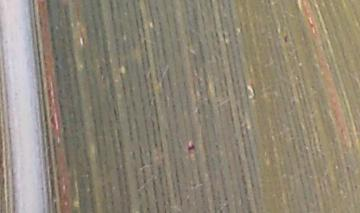tarspot: (186, 142, 196, 152), (282, 33, 288, 43)
